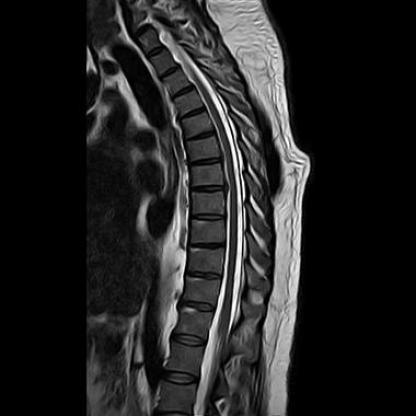Disc Protrusionrotation: (173, 91, 204, 116), (183, 129, 217, 145)
